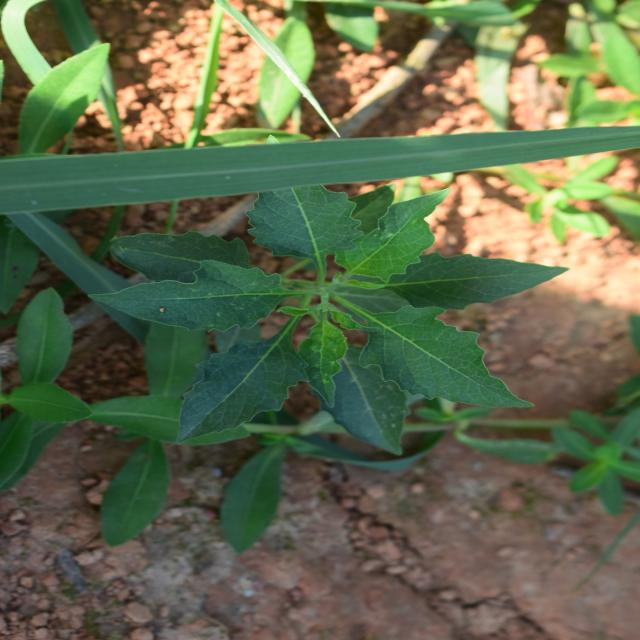Black_nightshade: (192, 101, 468, 551)
